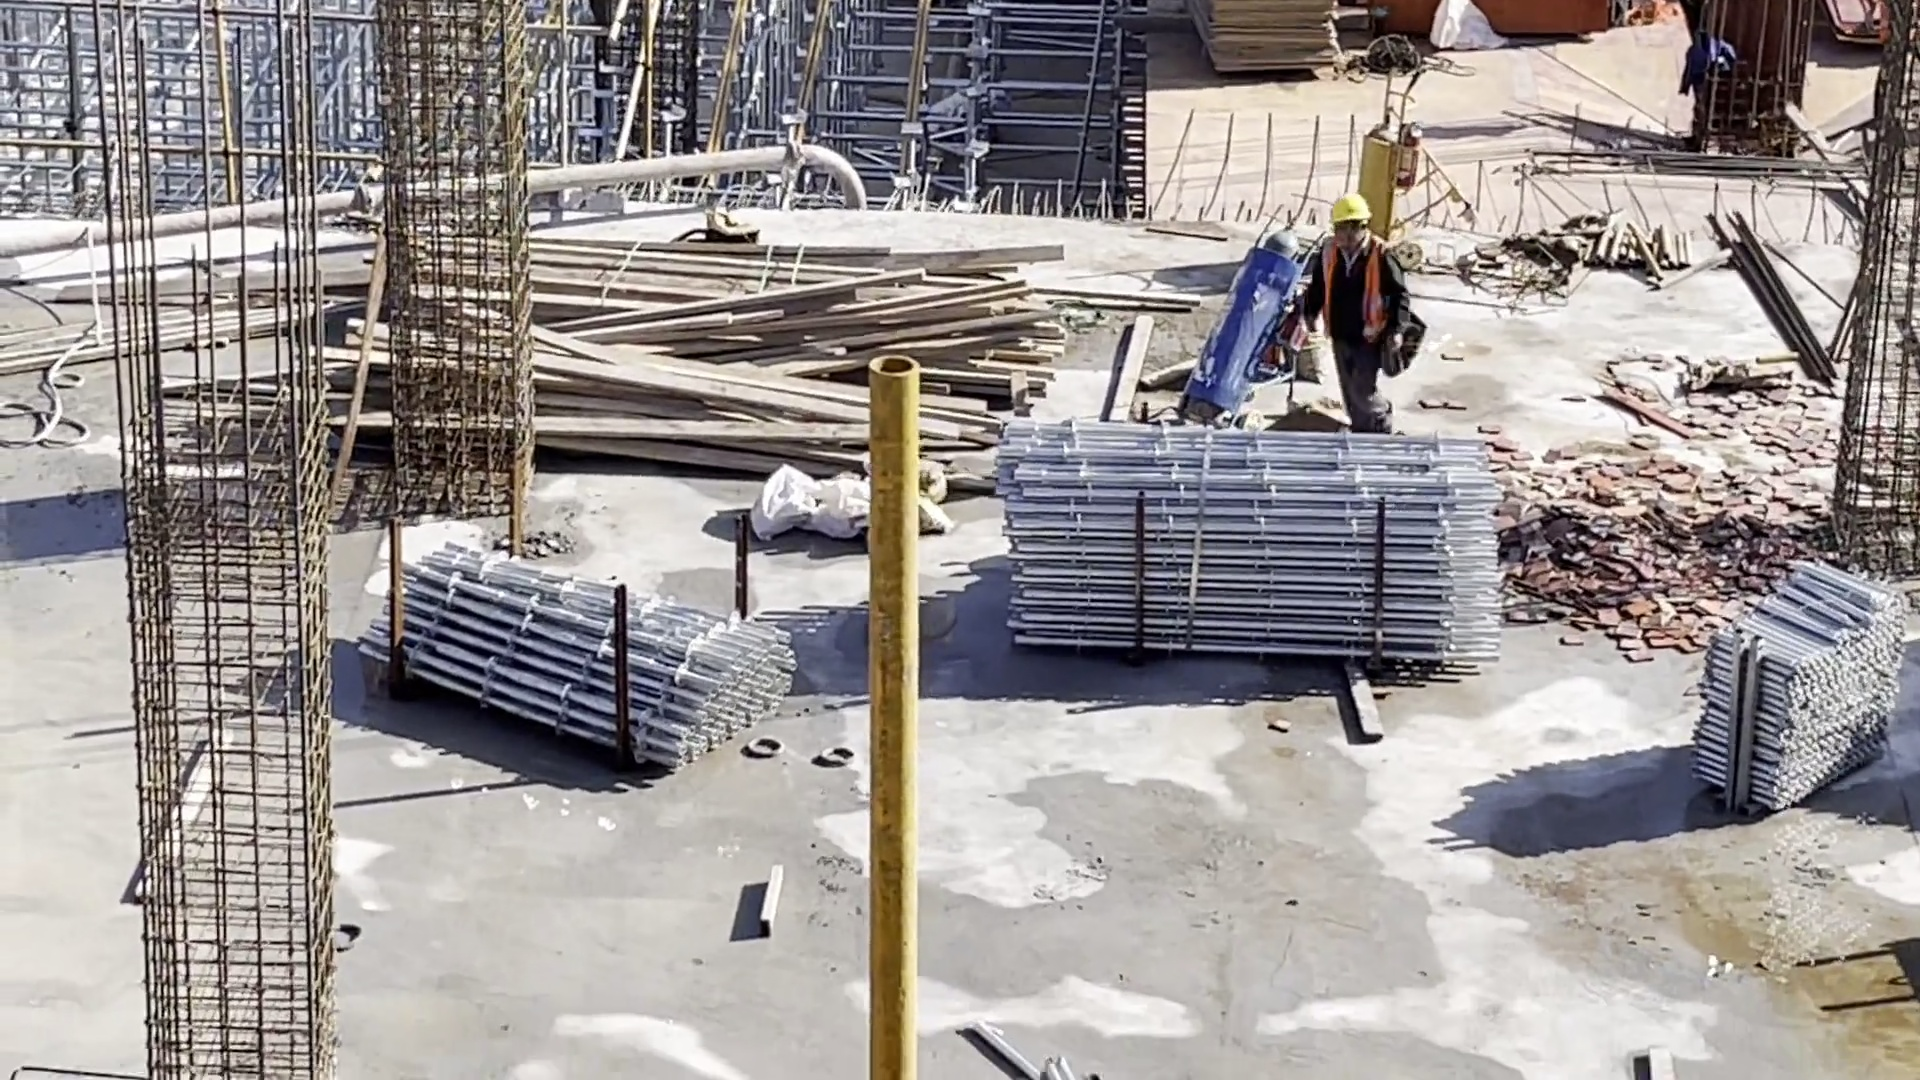board: (1170, 1, 1358, 94), (1803, 1, 1905, 61)
helmet: (1326, 189, 1372, 224)
person: (1311, 185, 1413, 424)
rebar: (1701, 193, 1844, 390), (1513, 135, 1865, 188)
scaffold: (990, 434, 1495, 701), (369, 545, 816, 781), (1685, 558, 1904, 810)
vest: (1324, 239, 1389, 343)
wood: (538, 231, 1068, 477)
